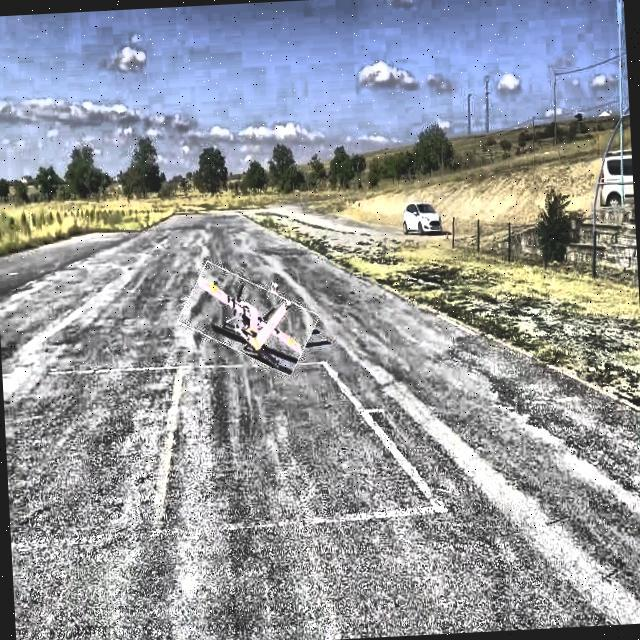iha: (156, 249, 331, 379)
